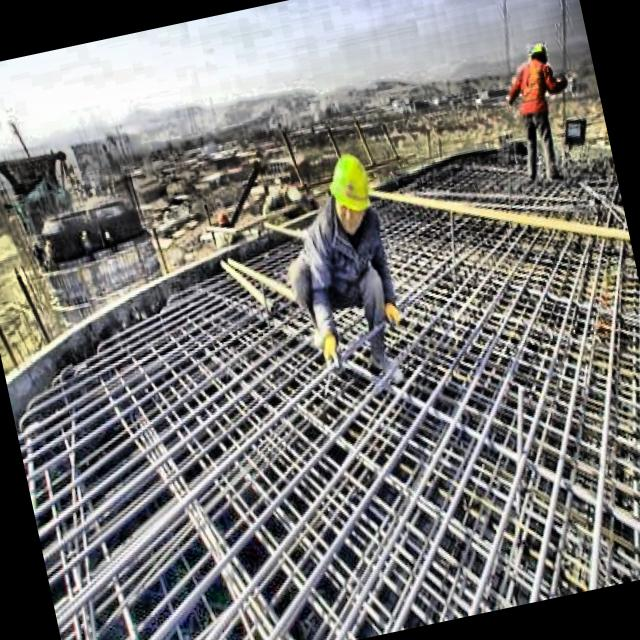helmet: (321, 142, 382, 236), (526, 40, 551, 69)
